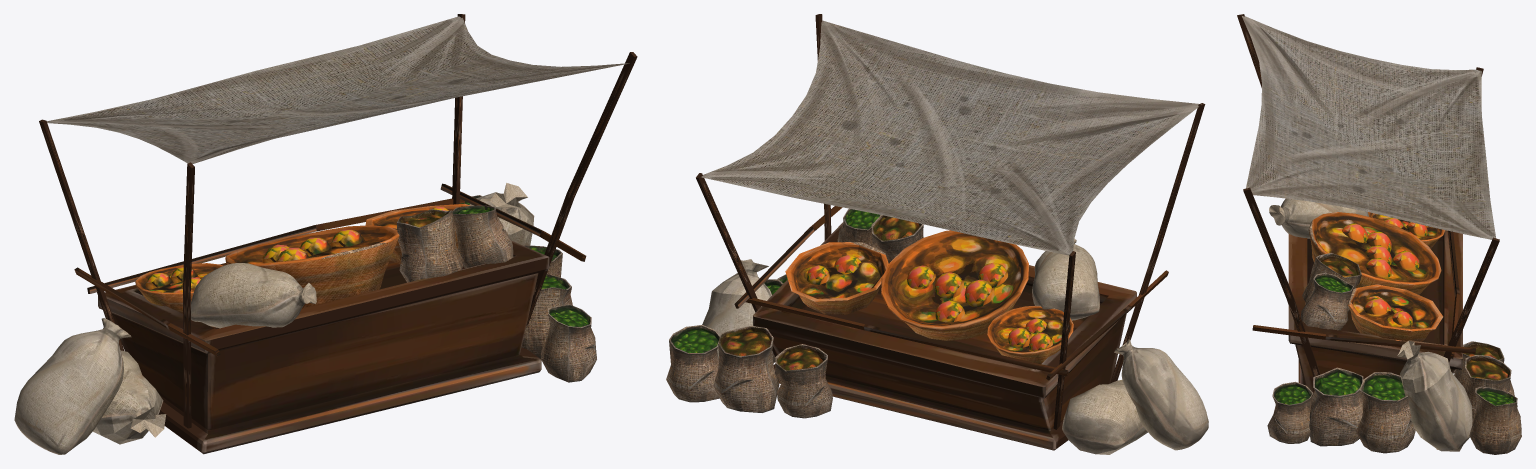
File: fruit_stand2.glb
3 views of the same model, side by side, from view 1: azimuth 30°, elevation 25°; view 2: azimuth 150°, elevation 25°; view 3: azimuth 270°, elevation 25° (orthographic). The views are drawn at different scales.
Visible parts, largest first — view 1: fruitstand001_fruitstand_0, Plane001_cloth_0, sac_sac_0, basket_basket_0, Cylinder004_sac2_0, Box007_07 - Default_0, Cylinder007_sac3_0; view 2: Plane001_cloth_0, fruitstand001_fruitstand_0, basket_basket_0, sac_sac_0, Cylinder007_sac3_0, Cylinder004_sac2_0, Box007_07 - Default_0; view 3: Plane001_cloth_0, Cylinder004_sac2_0, basket_basket_0, fruitstand001_fruitstand_0, sac_sac_0, Cylinder007_sac3_0, Box007_07 - Default_0.
Boxes of the visible parts, x1,y1,x2,y2 form: fruitstand001_fruitstand_0: (39,14,637,454); Plane001_cloth_0: (47,16,629,164); sac_sac_0: (14,183,534,454); basket_basket_0: (135,203,470,313); Cylinder004_sac2_0: (452,195,596,382); Box007_07 - Default_0: (74,183,586,356); Cylinder007_sac3_0: (396,209,464,282); Plane001_cloth_0: (701,20,1201,255); fruitstand001_fruitstand_0: (696,14,1205,450); basket_basket_0: (785,230,1073,363); sac_sac_0: (702,238,1208,454); Cylinder007_sac3_0: (713,215,923,418); Cylinder004_sac2_0: (666,208,880,402); Box007_07 - Default_0: (734,206,1168,380); Plane001_cloth_0: (1242,16,1495,239); Cylinder004_sac2_0: (1267,272,1521,454); basket_basket_0: (1308,212,1445,341); fruitstand001_fruitstand_0: (1237,14,1499,394); sac_sac_0: (1269,198,1472,451); Cylinder007_sac3_0: (1302,253,1517,420); Box007_07 - Default_0: (1252,231,1475,358).
Bounding box in the file's own units: 2.56 × 1.5 × 1.44.
7 materials, 7 textured.
